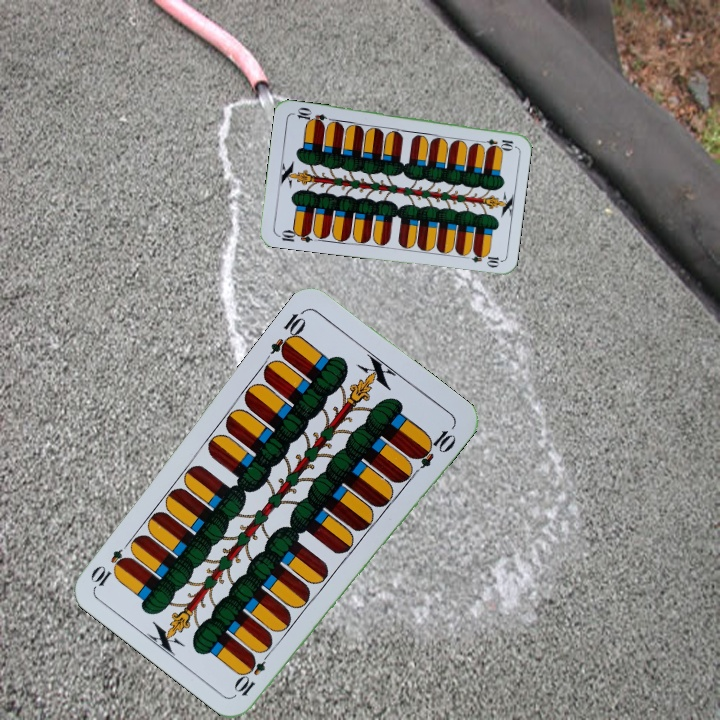E10: (266, 306, 309, 361), (231, 645, 274, 699), (273, 225, 314, 245), (475, 135, 516, 151)
